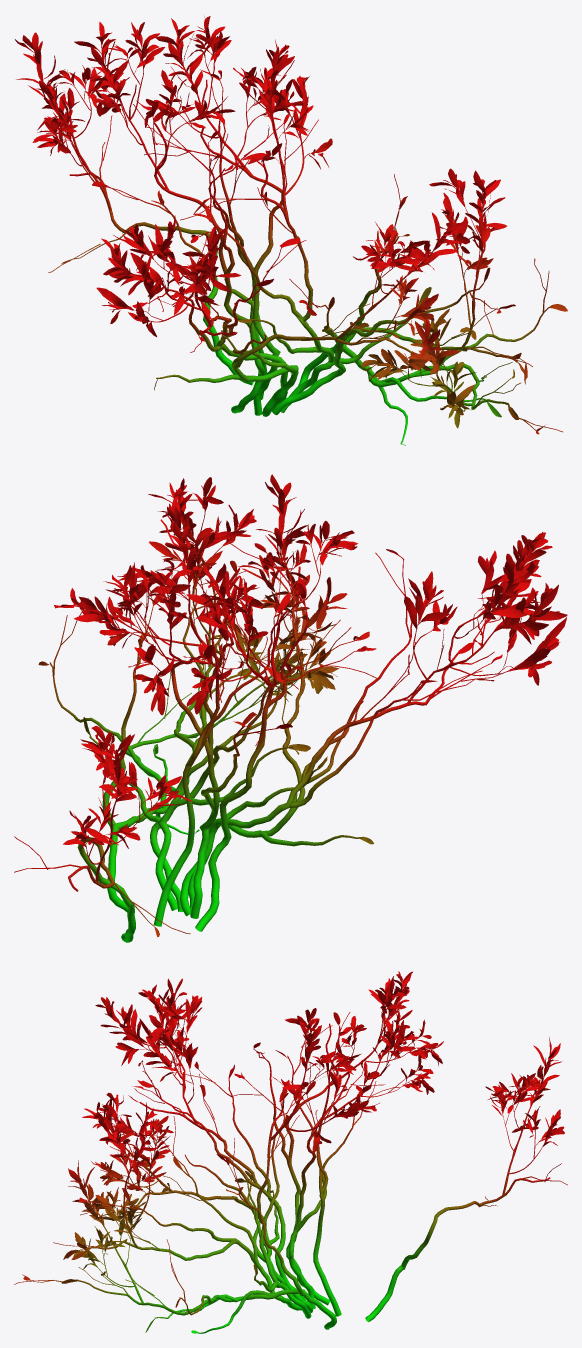
File: Downy Willow_LOD1_Var15_wknlfiuqx.fbx
3 views of the same model, one above another, from view 1: azimuth 30°, elevation 25°; view 2: azimuth 150°, elevation 25°; view 3: azimuth 270°, elevation 25° (orthographic). The views are drawn at different scales.
Parts seen in each view (by area): view 1: _ef8o_Var15_LOD1; view 2: _ef8o_Var15_LOD1; view 3: _ef8o_Var15_LOD1.
Part boxes in pixels (bbox=[...]): _ef8o_Var15_LOD1: bbox=[15, 16, 567, 445]; _ef8o_Var15_LOD1: bbox=[14, 474, 567, 942]; _ef8o_Var15_LOD1: bbox=[14, 971, 567, 1333].
Size of the model in its own units: 144 by 110 by 181.
